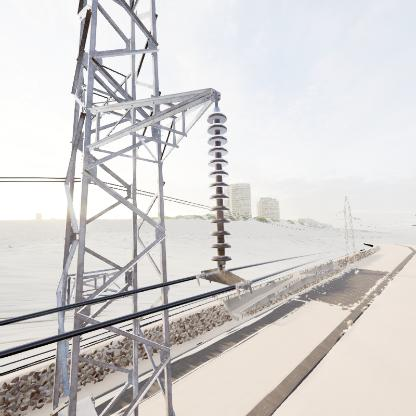insulator: (202, 112, 238, 269)
